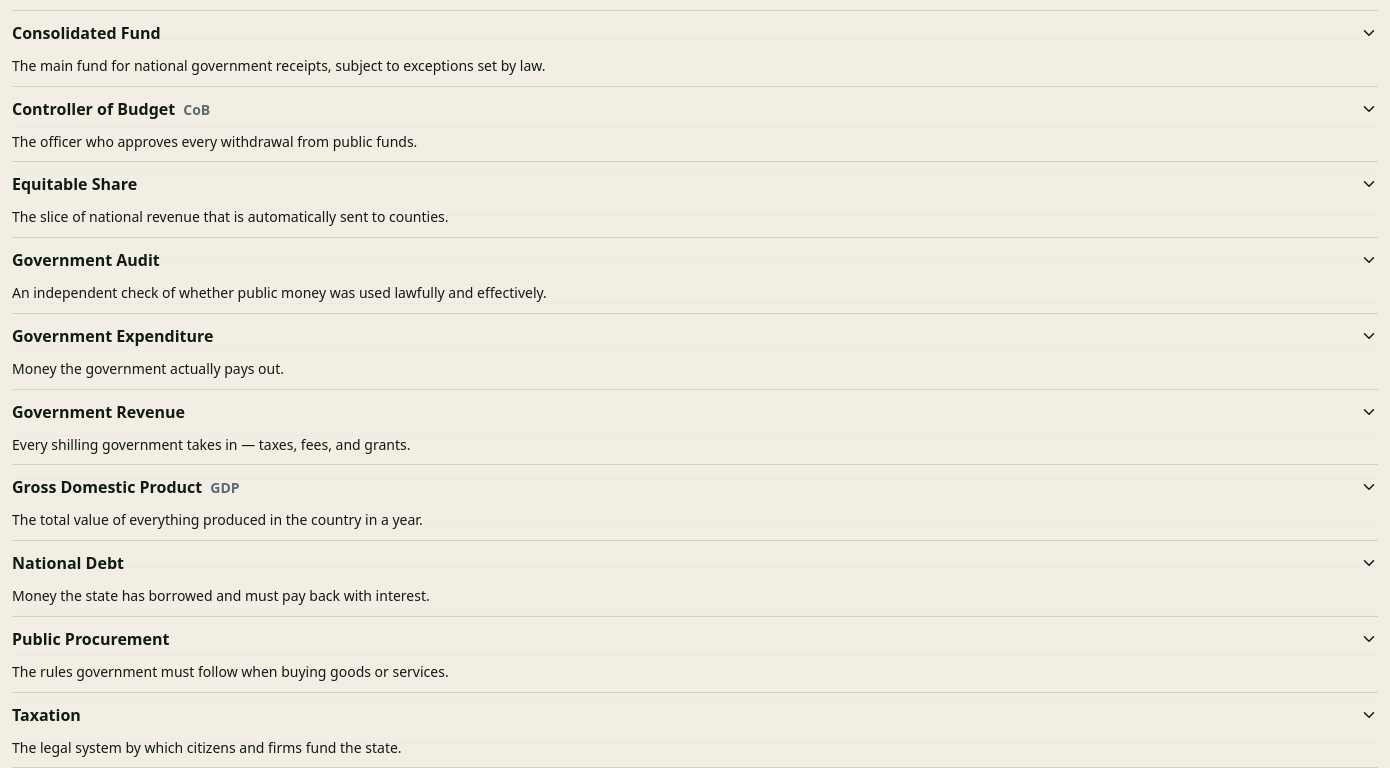
falls back to the dated example when the API fails
(page scrolled)
Click the button "Gross Domestic Product".
click(107, 487)  # box [12,465,1378,509]
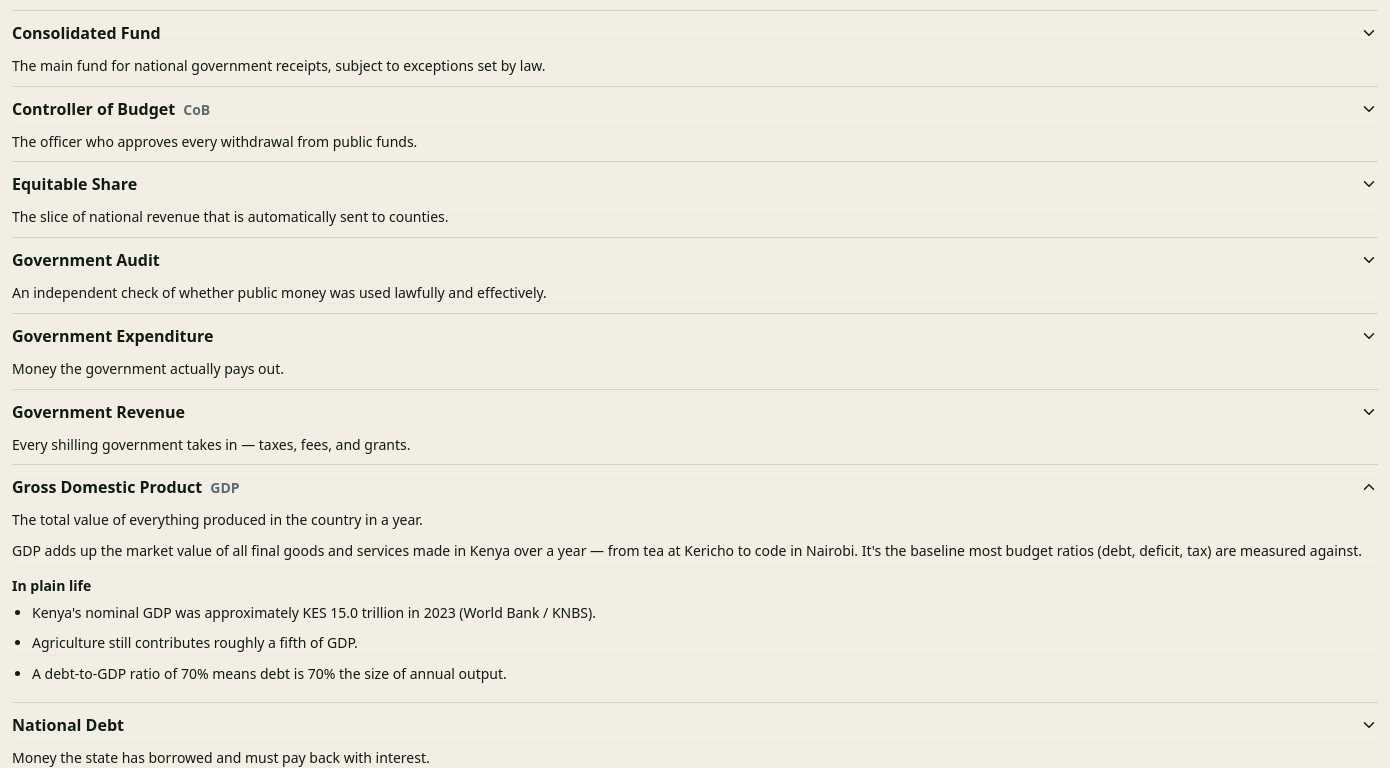
Result: the list item "Kenya's nominal GDP was approximately KES 15.0 trillion in 2023" is shown at [32,602,596,622]
